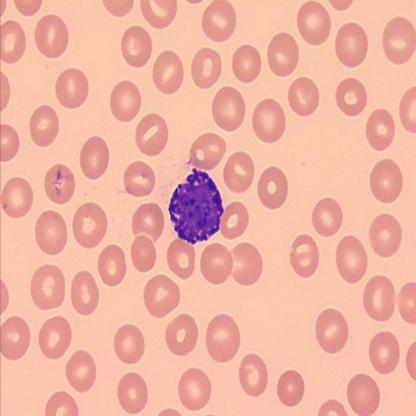Basophil: (166, 167, 226, 246)
